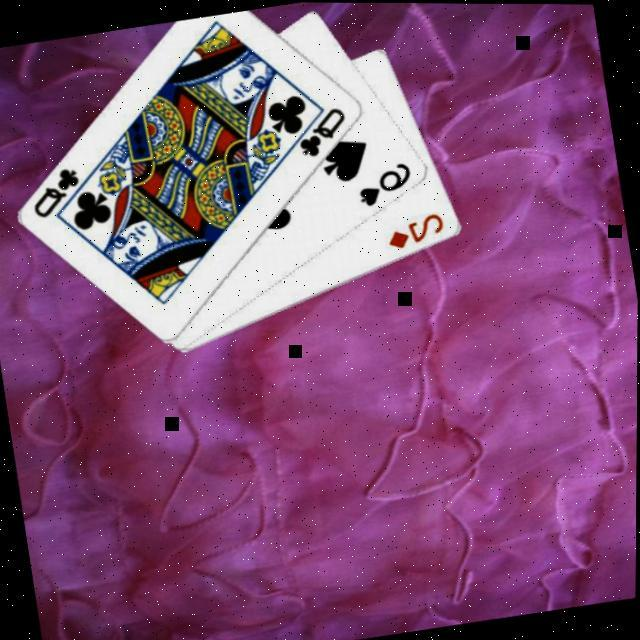2D: (382, 207, 448, 250)
6S: (352, 155, 417, 208)
QC: (24, 161, 88, 221), (290, 101, 353, 160)
